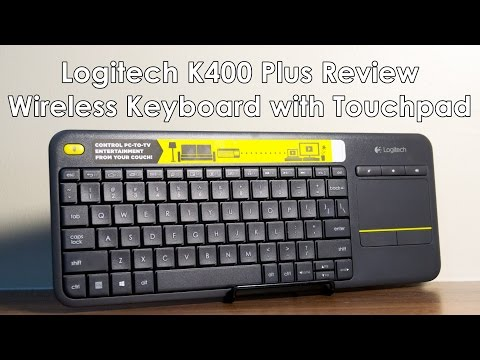logitech-keyboard-k400: (52, 132, 439, 310)
